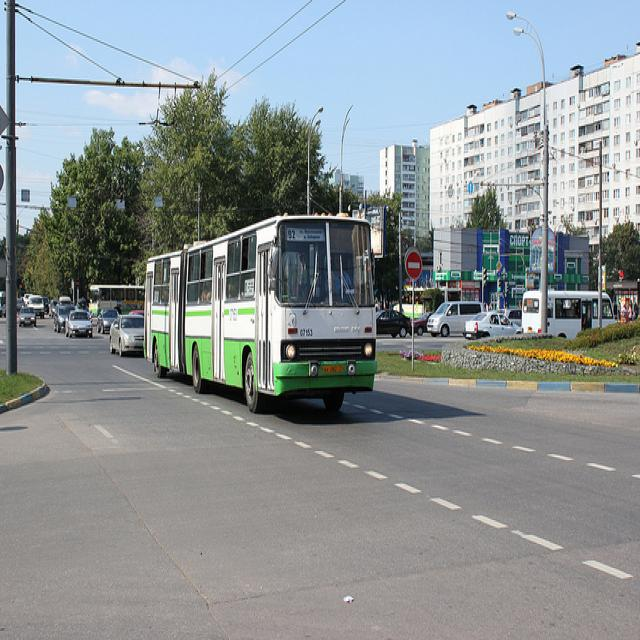AB: (137, 208, 386, 428)
